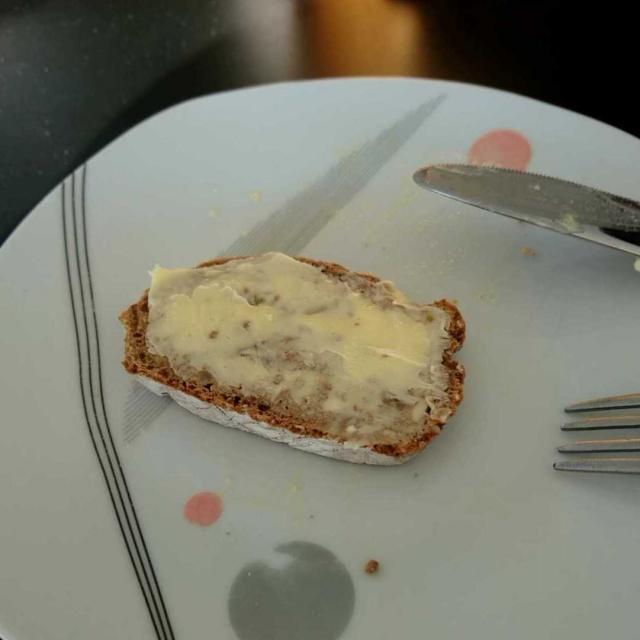bread: (129, 253, 458, 464)
